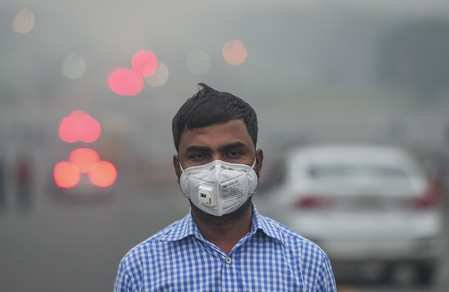mask: (164, 87, 270, 219)
